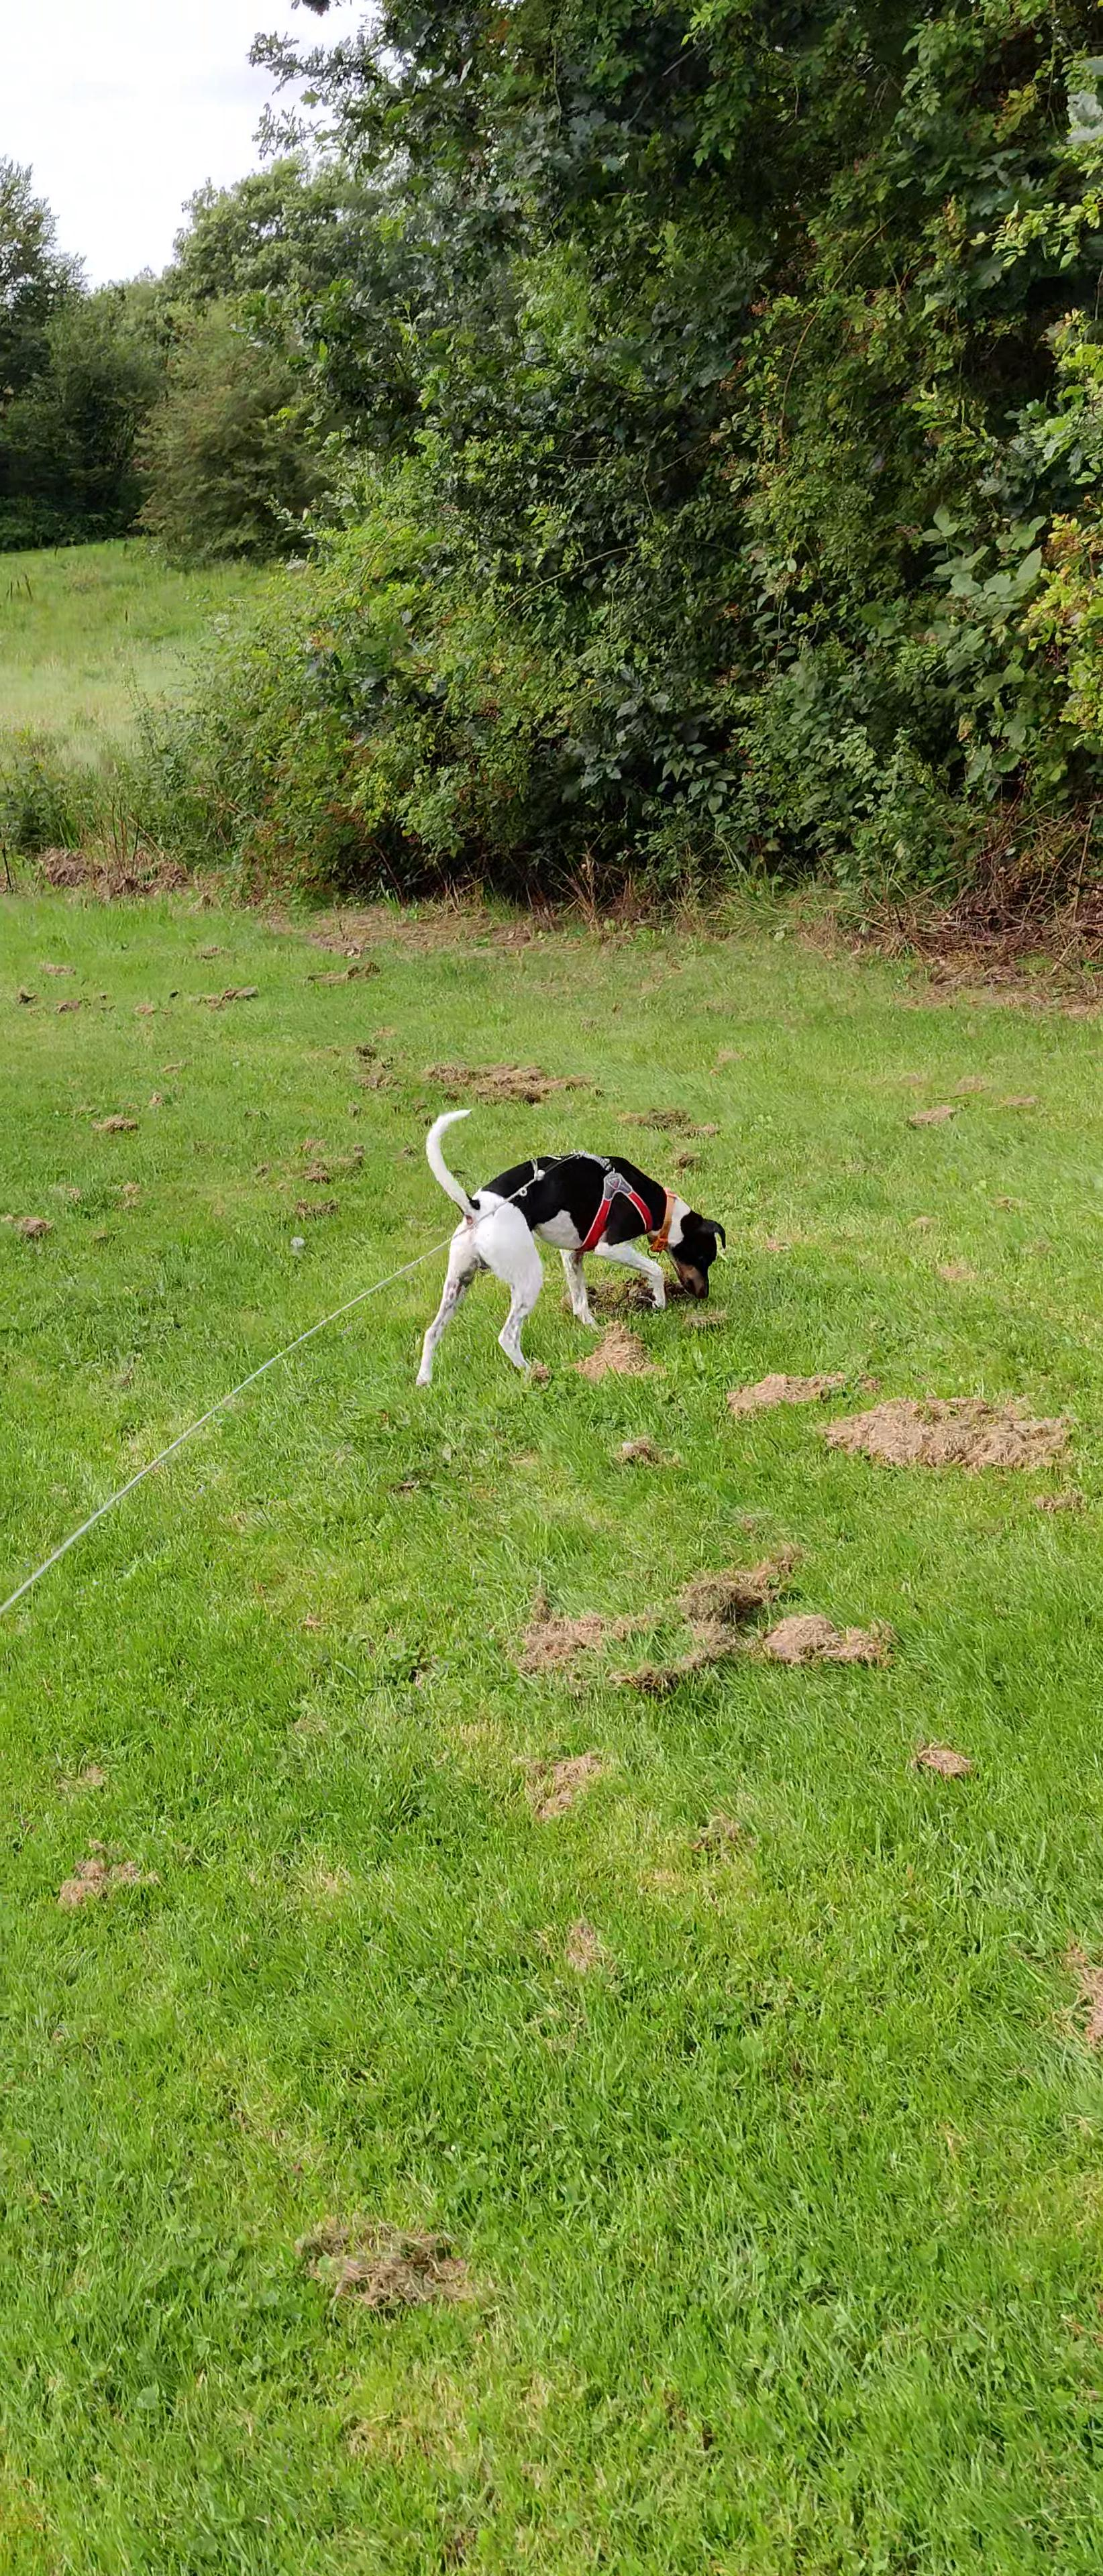Dog: (395, 1096, 736, 1405)
